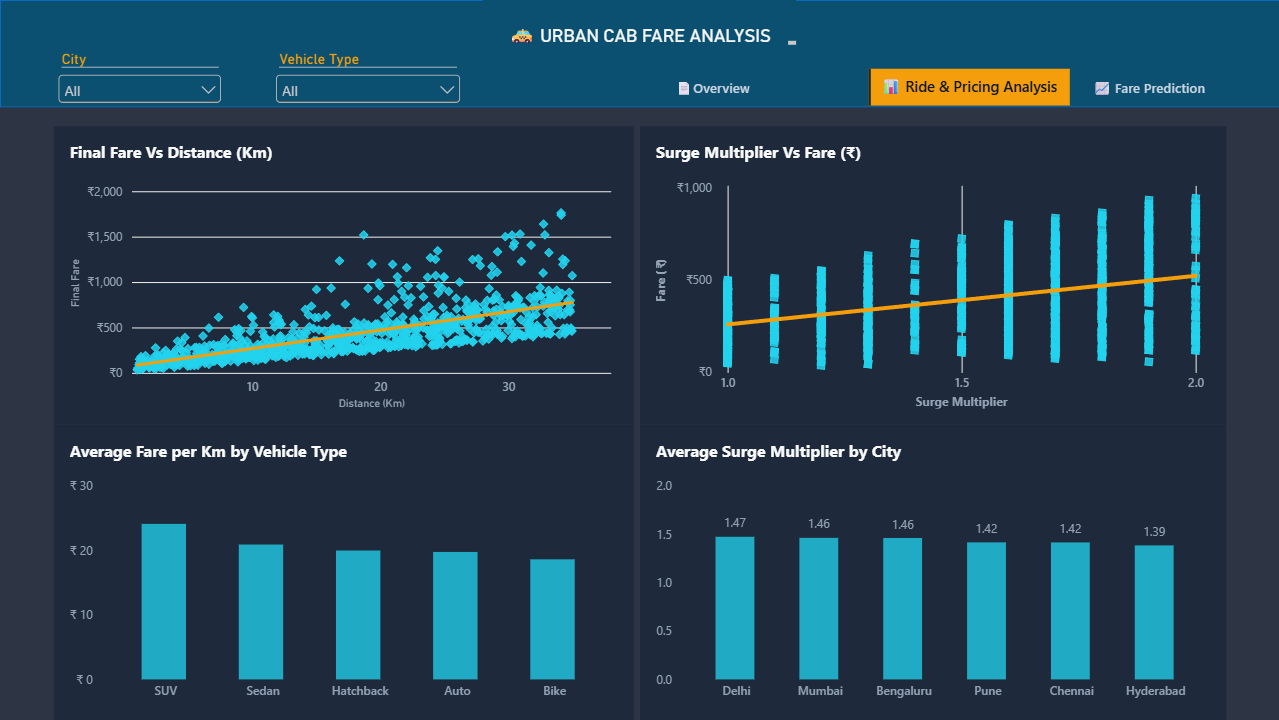

What the dashboard file says about the page in this screenshot:
{"tool":"powerbi","page":{"name":"📊 Ride & Pricing Analysis","canvas":[1280,720],"ordinal":1},"visuals":[{"type":"shape","title":"Menu bar","box":[0,0,1280,107.5],"z":0},{"type":"pageNavigator","title":"Menu Button","box":[659.9,69.2,619.7,38],"z":1000},{"type":"textbox","title":"🚕 URBAN CAB FARE ANALYSIS","box":[482.5,0,313.8,50],"z":2000},{"type":"scatterChart","title":"Surge Multiplier Vs Fare (₹)","fields":{"X":["UrbanCabFare.Surge_Multiplier"],"Y":["UrbanCabFare.Final_Fare"]},"box":[640,126.2,586.2,298.8],"z":4000},{"type":"slicer","fields":{"Values":["UrbanCabFare.City"]},"box":[53.8,50,172.5,57.5],"z":5000},{"type":"columnChart","title":"Average Fare per Km by Vehicle Type","fields":{"Category":["UrbanCabFare.Type_of_vehicle"],"Y":["UrbanCabFare.AvgFare_by_Km"]},"box":[53.8,425,580,295],"z":6000},{"type":"scatterChart","title":"Final Fare Vs Distance (Km)","fields":{"X":["UrbanCabFare.Distance_km"],"Y":["Sum(UrbanCabFare.Final_Fare)"]},"box":[53.8,126.2,580,298.8],"z":7000},{"type":"columnChart","title":"Average Surge Multiplier by City","fields":{"Category":["UrbanCabFare.City"],"Y":["Avg(UrbanCabFare.Surge_Multiplier)"]},"box":[640,425,586.2,295],"z":8000},{"type":"slicer","fields":{"Values":["UrbanCabFare.Type_of_vehicle"]},"box":[271.2,50,193.8,57.5],"z":9000}]}

Visuals, with their boxes in screenshot pixels (x1, y1, x2, y2), scaled from the page's 1280x720 canvas onto the 1279x720 screenshot:
"Menu bar" shape: x1=0, y1=0, x2=1278, y2=108
"Menu Button" pageNavigator: x1=659, y1=69, x2=1278, y2=107
"🚕 URBAN CAB FARE ANALYSIS" textbox: x1=482, y1=0, x2=796, y2=50
"Surge Multiplier Vs Fare (₹)" scatterChart: x1=640, y1=126, x2=1225, y2=425
slicer - UrbanCabFare.City: x1=54, y1=50, x2=226, y2=108
"Average Fare per Km by Vehicle Type" columnChart: x1=54, y1=425, x2=633, y2=719
"Final Fare Vs Distance (Km)" scatterChart: x1=54, y1=126, x2=633, y2=425
"Average Surge Multiplier by City" columnChart: x1=640, y1=425, x2=1225, y2=719
slicer - UrbanCabFare.Type_of_vehicle: x1=271, y1=50, x2=465, y2=108
